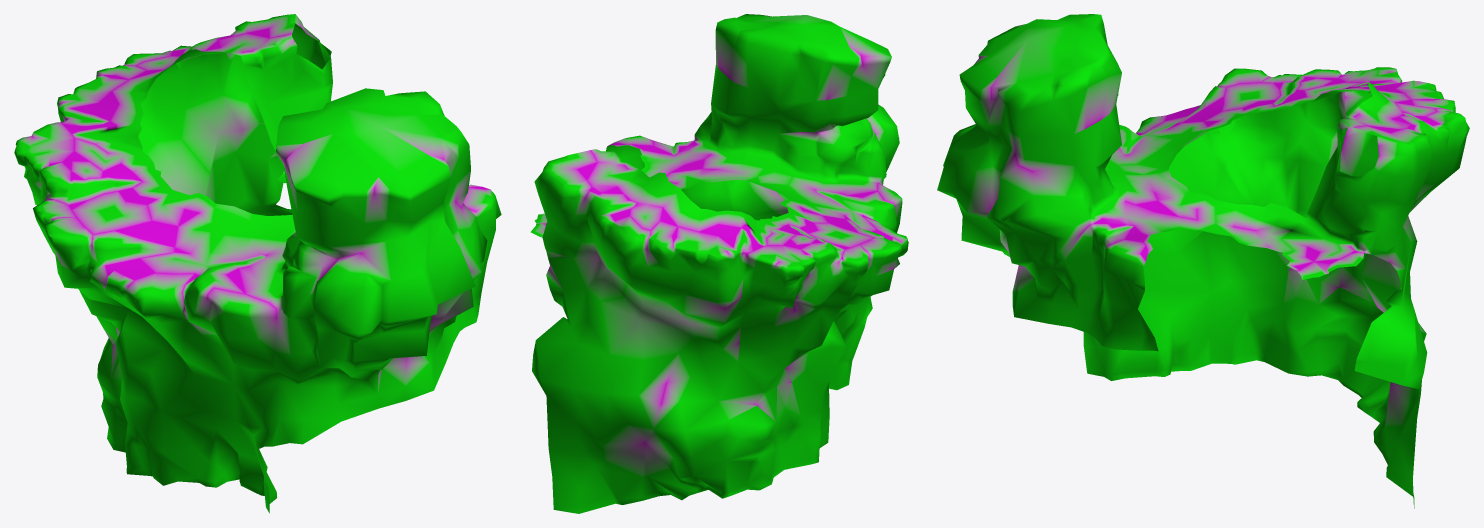
3 views of the same model, side by side, from view 1: azimuth 30°, elevation 25°; view 2: azimuth 150°, elevation 25°; view 3: azimuth 270°, elevation 25° (orthographic). The views are drawn at different scales.
Parts seen in each view (by area): view 1: G:\FFXIV-MapTools\exports\f1f1\bg\ffxiv\fst_f1\fld\f1f1\bgpa (×4); view 2: G:\FFXIV-MapTools\exports\f1f1\bg\ffxiv\fst_f1\fld\f1f1\bgpa (×4); view 3: G:\FFXIV-MapTools\exports\f1f1\bg\ffxiv\fst_f1\fld\f1f1\bgpa (×4).
Boxes of the visible parts, <box> form: G:\FFXIV-MapTools\exports\f1f1\bg\ffxiv\fst_f1\fld\f1f1\bgpa (×4): <box>14,14,501,513</box>; G:\FFXIV-MapTools\exports\f1f1\bg\ffxiv\fst_f1\fld\f1f1\bgpa (×4): <box>530,14,908,513</box>; G:\FFXIV-MapTools\exports\f1f1\bg\ffxiv\fst_f1\fld\f1f1\bgpa (×4): <box>937,14,1469,508</box>.
Bounding box in the file's own units: 70.69 × 78.69 × 86.75.
